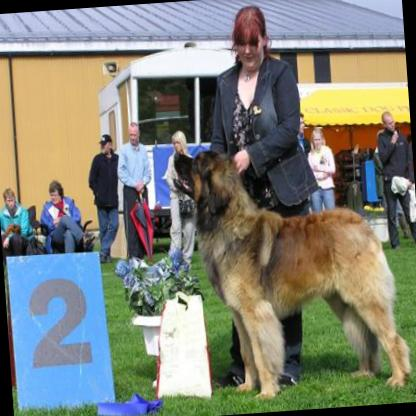Leonberg: (170, 132, 413, 402)
